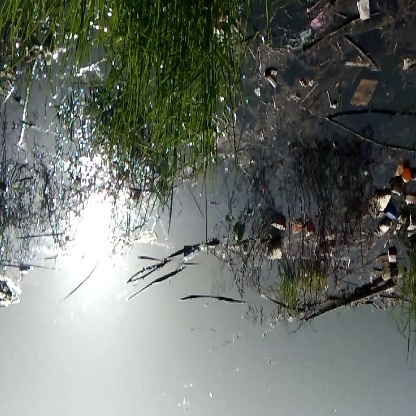branch: (303, 282, 397, 327)
